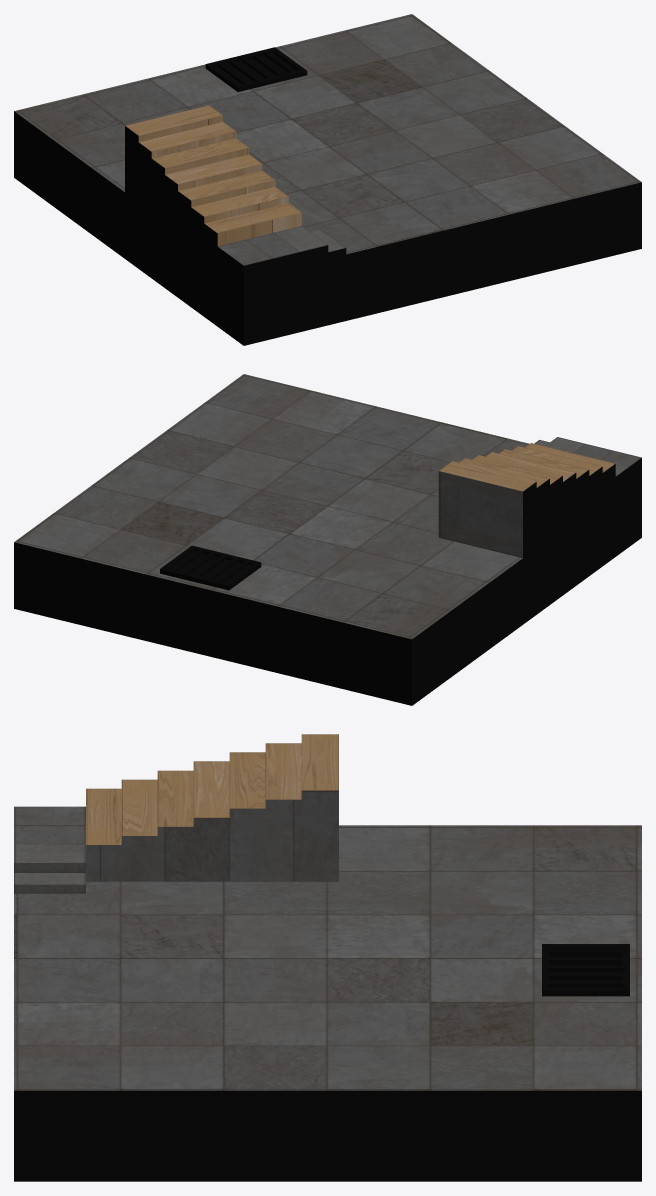
The model's file is FlowershopBasement.fbx.
3 views of the same model, one above another, from view 1: azimuth 30°, elevation 25°; view 2: azimuth 150°, elevation 25°; view 3: azimuth 270°, elevation 25° (orthographic). The views are drawn at different scales.
Parts seen in each view (by area): view 1: Plane.004, Plane.005, Cube.026; view 2: Plane.004, Plane.005, Cube.026; view 3: Plane.004, Plane.005, Cube.026.
Boxes of the visible parts, x1,y1,x2,y2 form: Plane.004: (14,14,641,325); Plane.005: (125,105,346,345); Cube.026: (205,47,307,91); Plane.004: (14,374,529,705); Plane.005: (438,437,641,624); Cube.026: (160,545,261,590); Plane.004: (14,825,641,1181); Plane.005: (14,734,338,893); Cube.026: (542,944,629,996).
Size of the model in its own units: 618 by 197 by 618.
